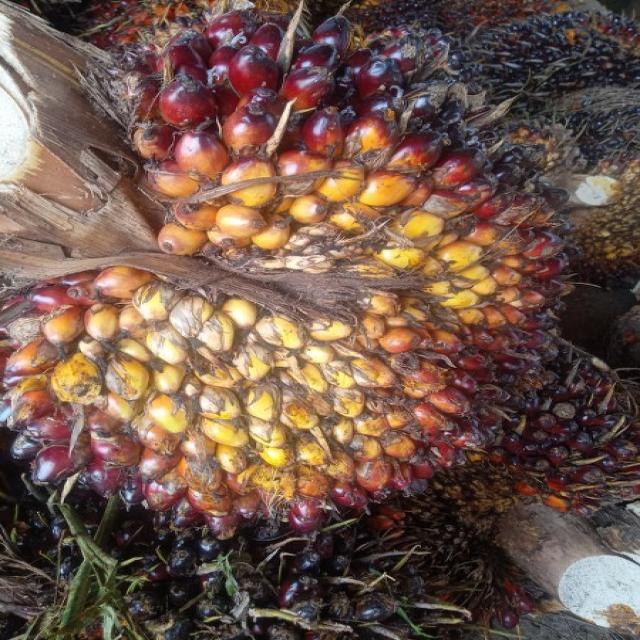fraksi 1: (0, 21, 583, 546)
